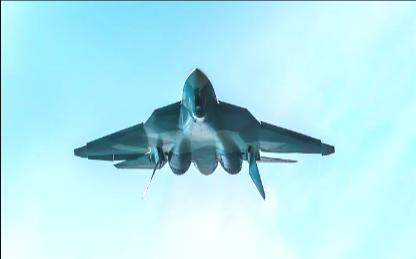SR71: (74, 66, 334, 199)
